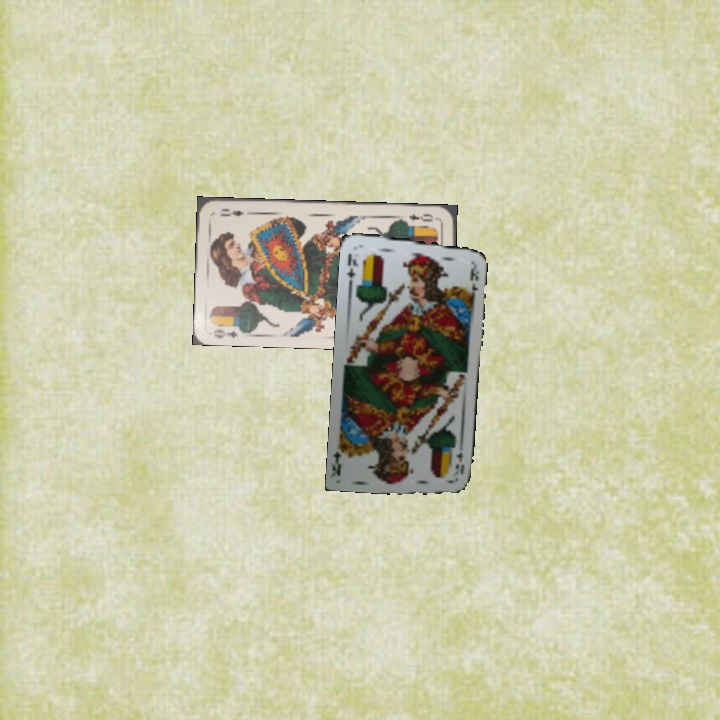EK: (343, 250, 361, 286), (450, 448, 467, 477)
EO: (210, 325, 240, 341), (404, 210, 436, 224)
